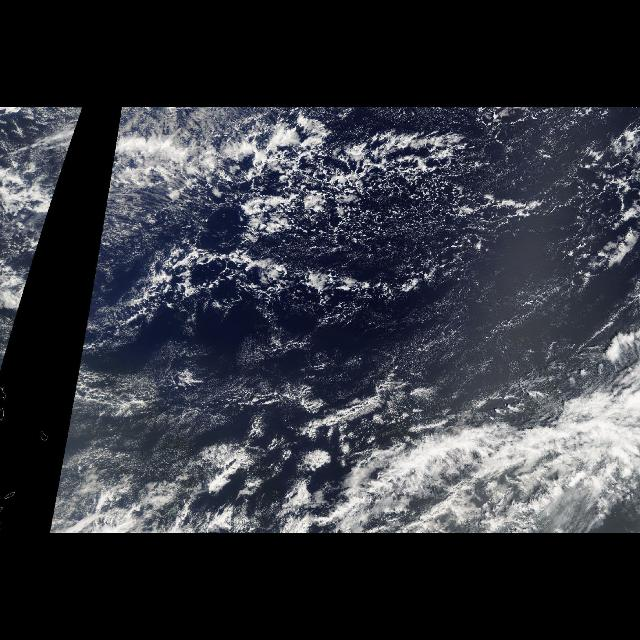Gravel: (227, 136, 503, 322)
Sugar: (84, 358, 316, 442), (388, 286, 562, 379)
